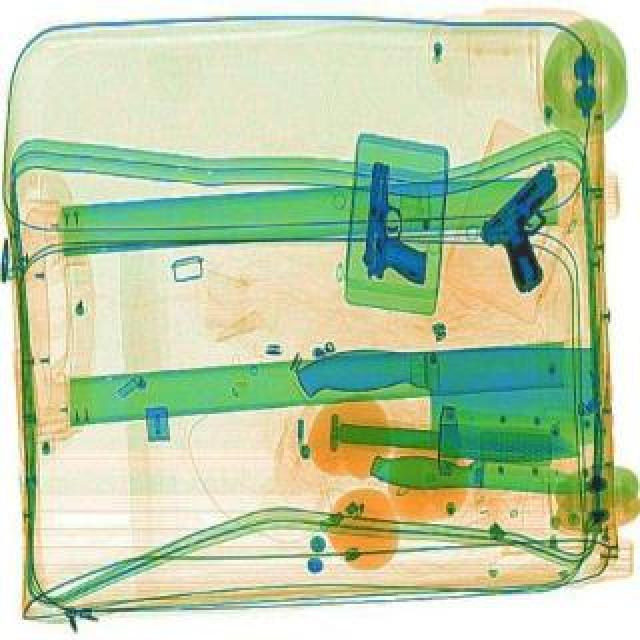gun: (460, 164, 604, 296), (354, 158, 442, 284)
knife: (296, 344, 600, 454), (330, 410, 578, 464), (366, 450, 592, 500)
